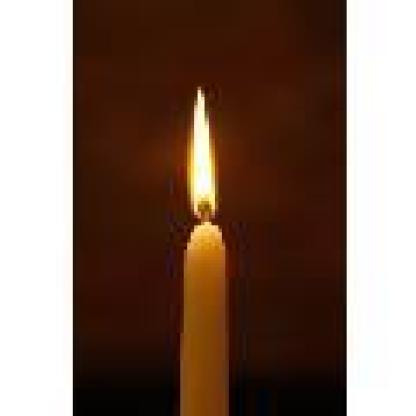Fire: (186, 86, 221, 219)
